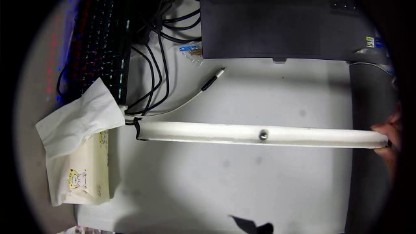gangzhu: (256, 131, 269, 141)
